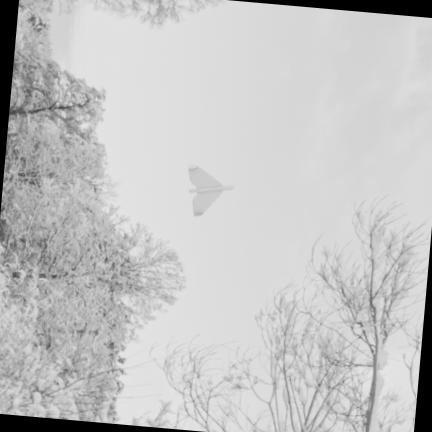Shahed: (188, 166, 233, 215)
